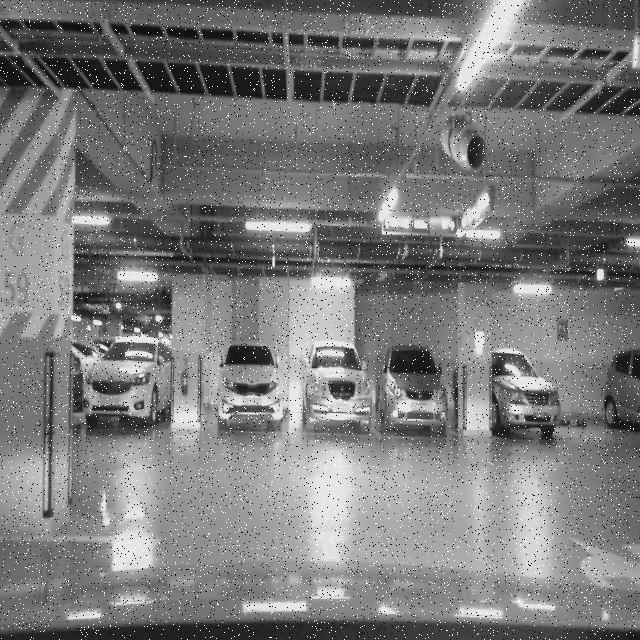car: (84, 334, 174, 430), (302, 341, 374, 441), (216, 344, 292, 438), (490, 346, 562, 442), (378, 341, 446, 438)
